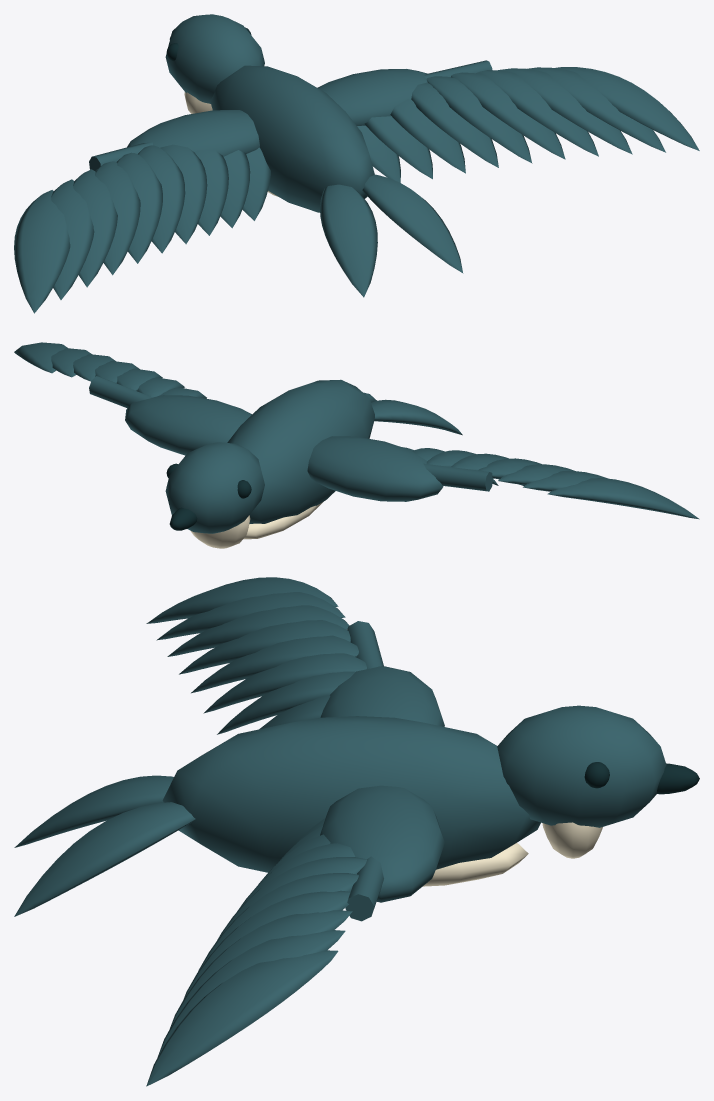
Rendered from canopy-swift.glb.
3 renders of one model, top to bottom at view 1: azimuth 30°, elevation 25°; view 2: azimuth 150°, elevation 25°; view 3: azimuth 270°, elevation 25°, orthographic. The views are drawn at different scales.
Parts seen in each view (by area): view 1: wing-left, wing-right, body, tail, head; view 2: wing-left, body, wing-right, head, throat, tail, beak; view 3: body, wing-right, wing-left, head, tail, throat, beak.
Part boxes in pixels (box(x1,y1,x2,y2)): wing-left: box(14, 110, 270, 313); wing-right: box(317, 60, 699, 182); body: box(210, 65, 374, 212); tail: box(320, 174, 463, 297); head: box(165, 14, 264, 103); wing-left: box(307, 436, 699, 519); body: box(227, 379, 374, 523); wing-right: box(14, 342, 251, 455); head: box(165, 442, 264, 533); throat: box(190, 502, 322, 548); tail: box(363, 392, 462, 435); beak: box(169, 507, 197, 530); body: box(162, 716, 540, 872); wing-right: box(146, 785, 444, 1086); wing-left: box(146, 577, 444, 734); head: box(497, 705, 666, 827); tail: box(14, 775, 195, 916); throat: box(423, 822, 602, 886); beak: box(657, 763, 699, 794).
Size of the model in its own units: 1.85 by 0.319 by 1.16.
